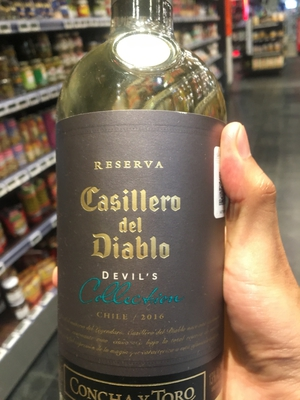casillero del diablo devils collection verde: (46, 26, 242, 398)
